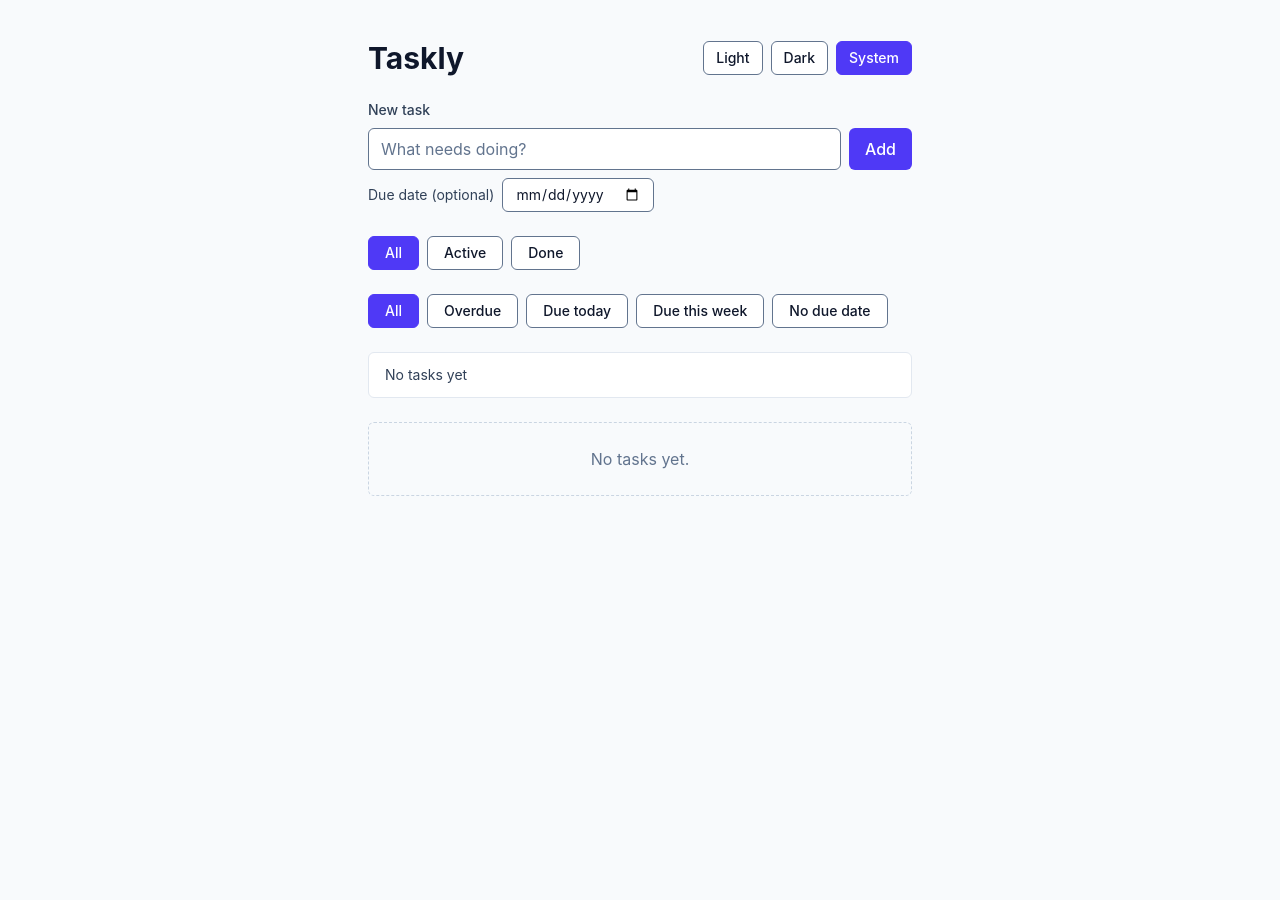
Scenario: App › focus after delete › returns focus to the "New task" input after deleting the last task
Type "Buy milk" into the field labelled "New task" at (604, 149), box 368,128 -> 841,170
Then press Enter
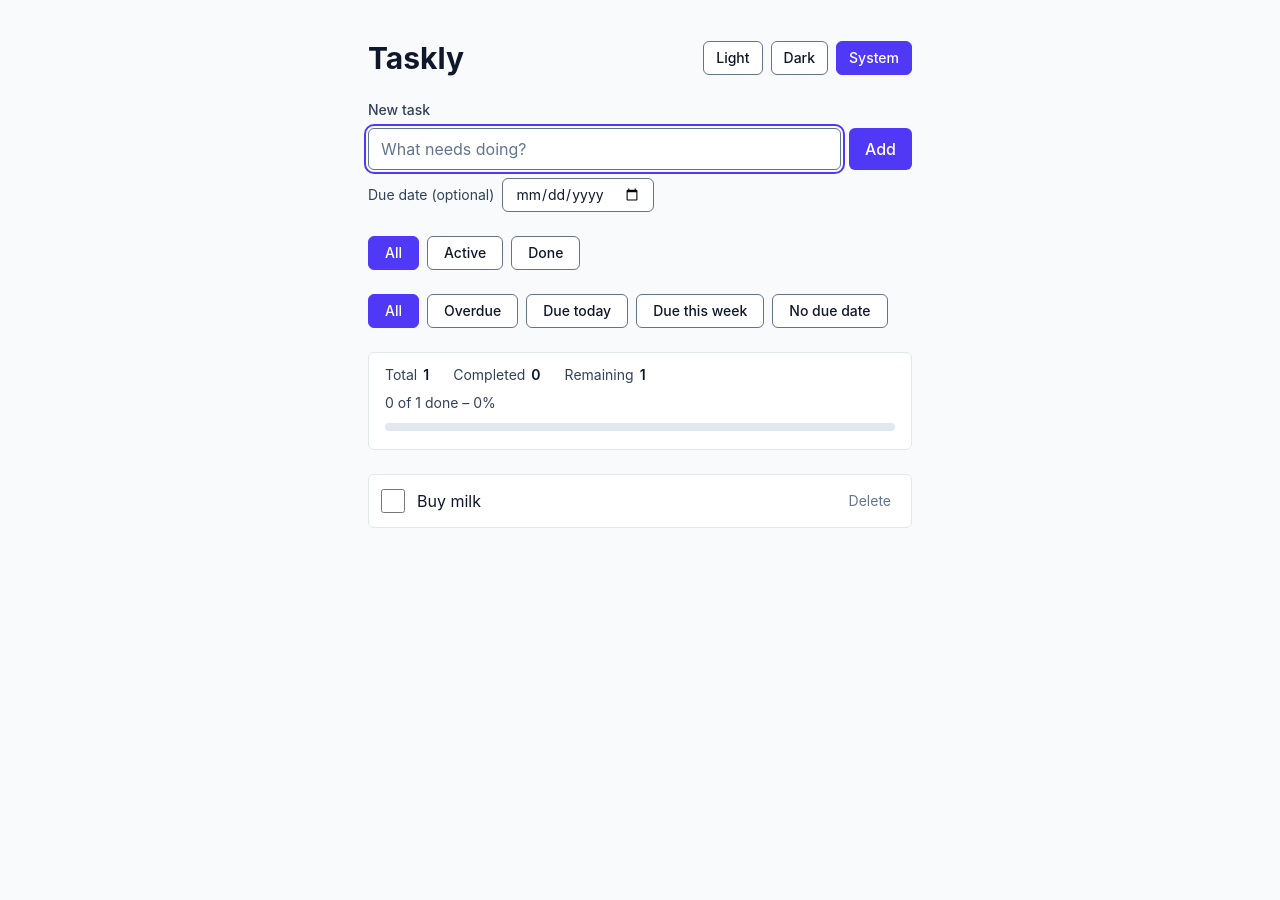
Click the checkbox labelled "Buy milk" at (393, 501), box 381,489 -> 405,513
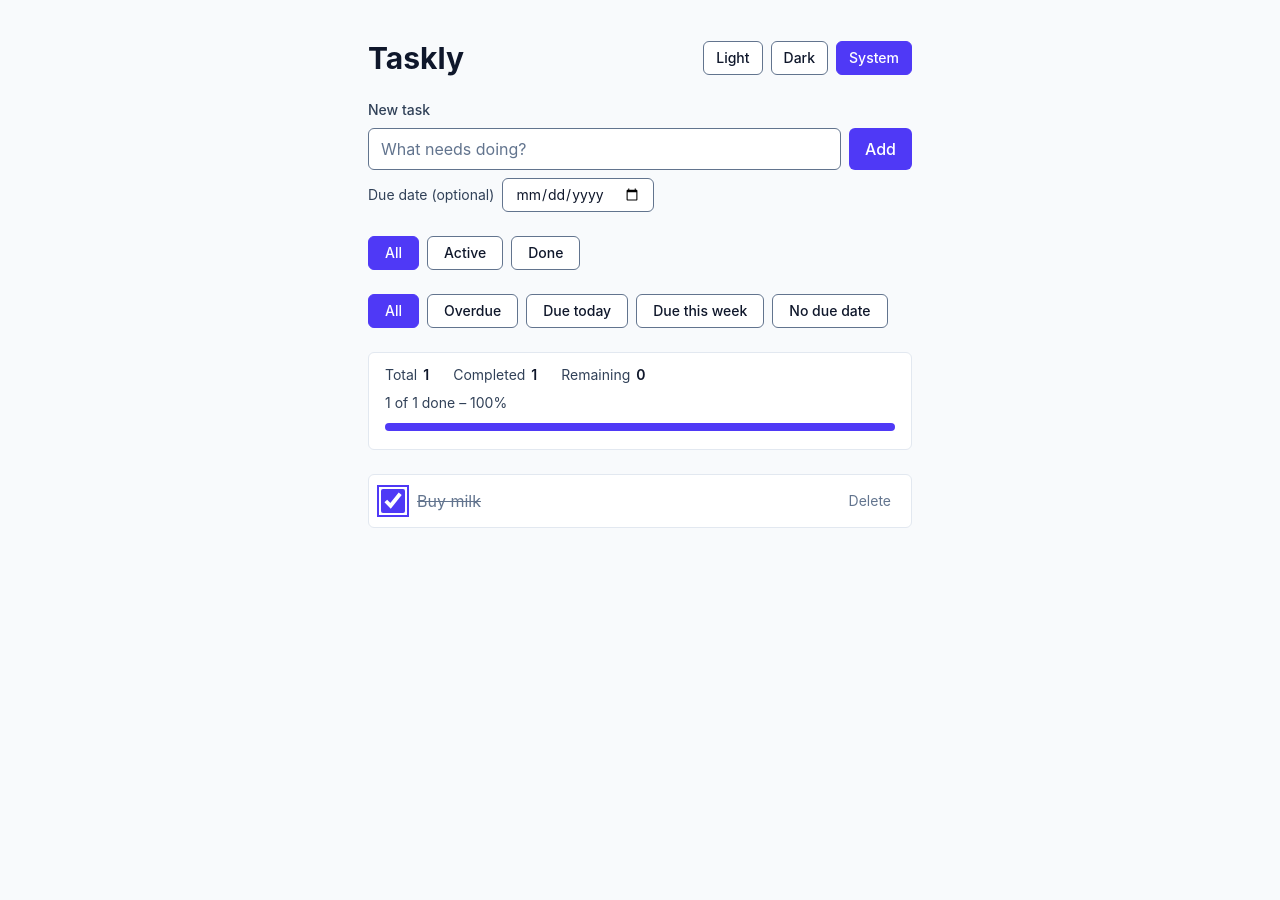
Click the button "Delete" at (870, 501), box 841,487 -> 899,515
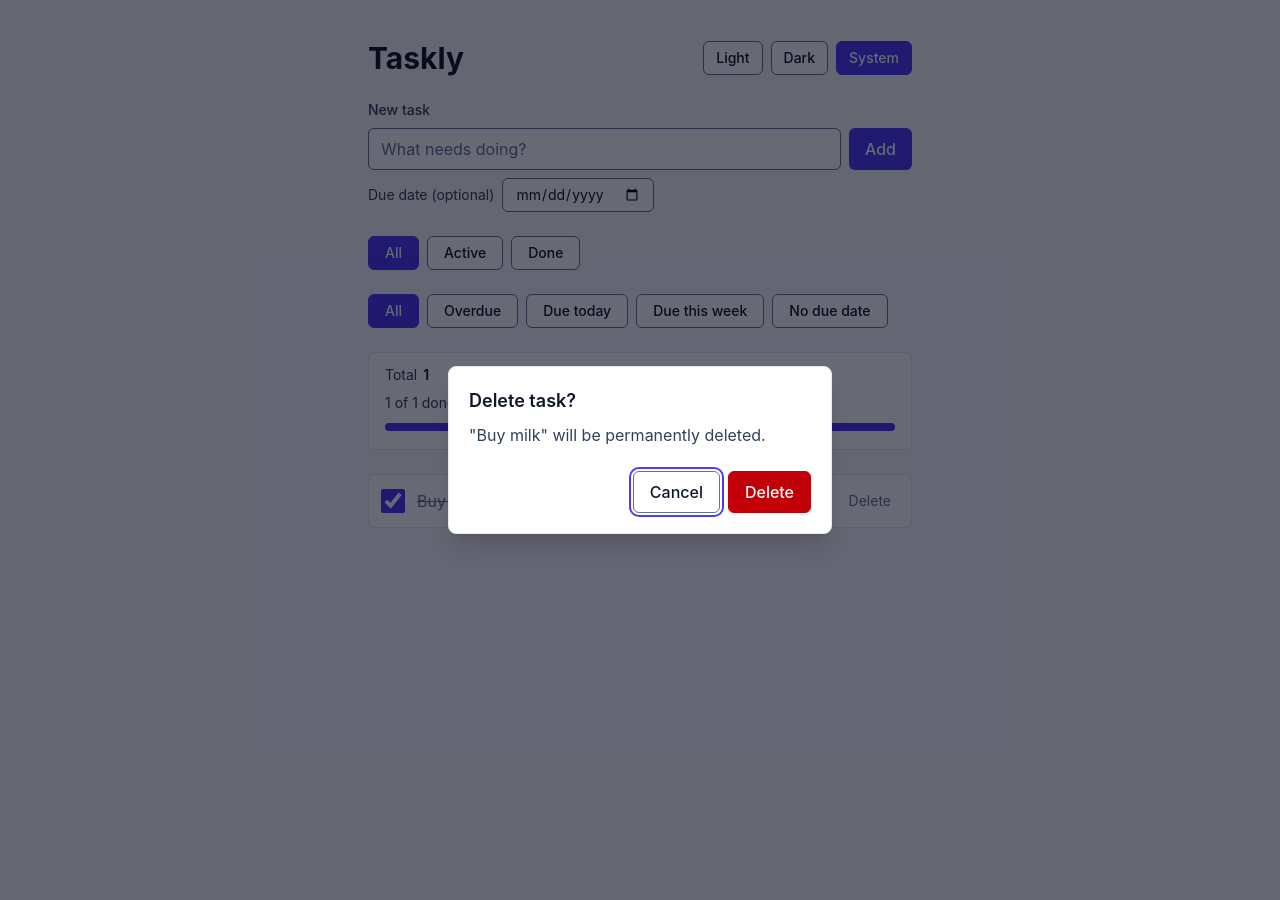
Click the button "Delete" at (769, 492), box 728,471 -> 811,513
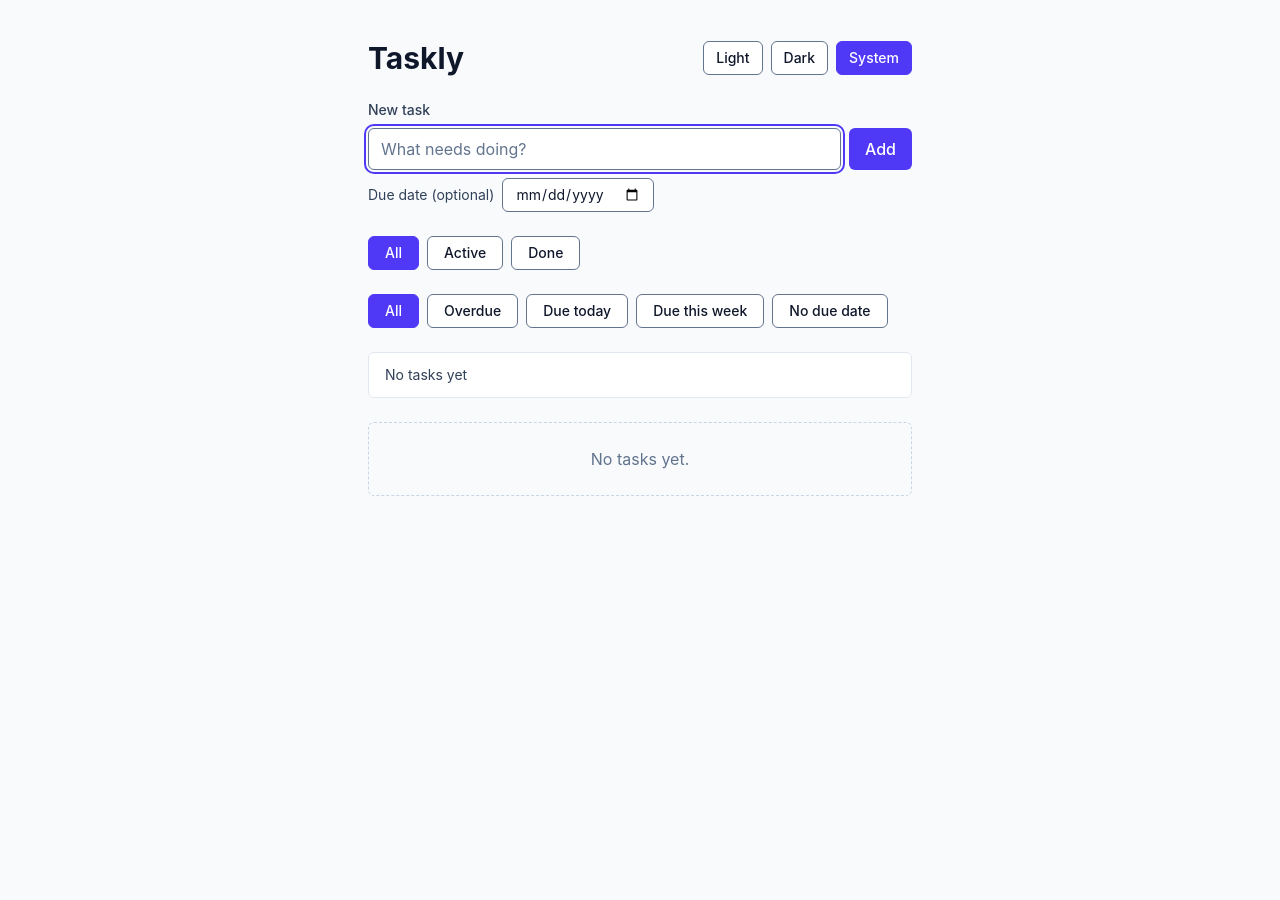
Expected: the text "No tasks yet." is shown, 368,422 -> 912,496
